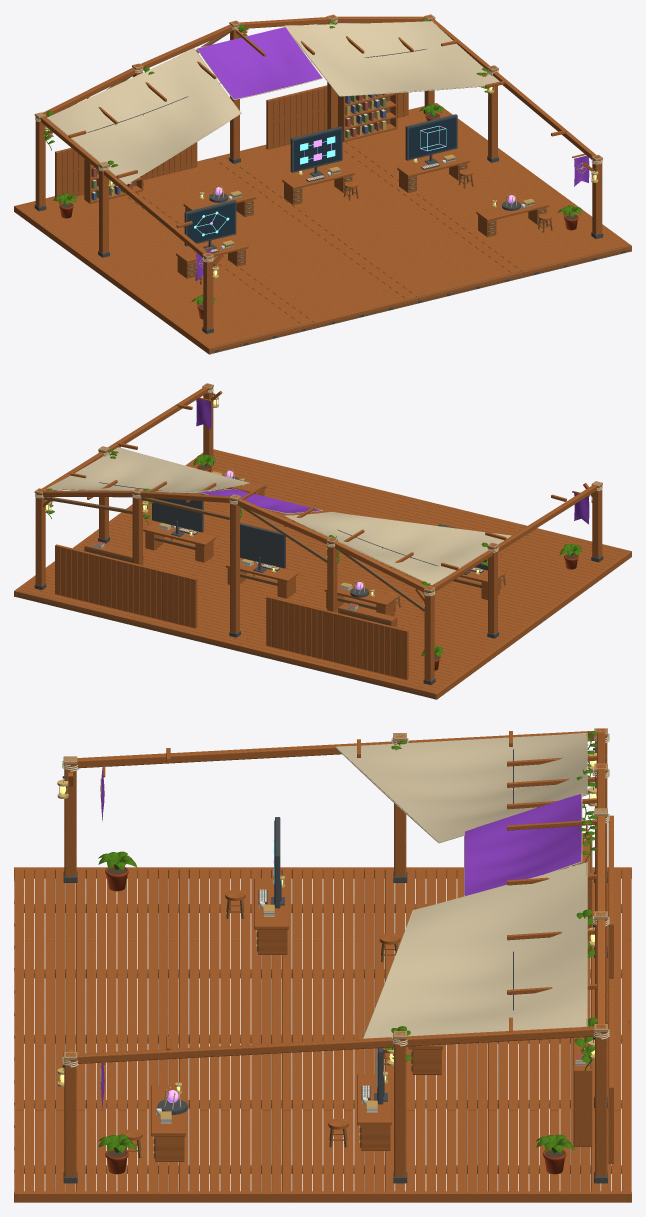
File: workshop-v1-batched.glb
3 views of the same model, one above another, from view 1: azimuth 30°, elevation 25°; view 2: azimuth 150°, elevation 25°; view 3: azimuth 270°, elevation 25° (orthographic). The views are drawn at different scales.
Parts seen in each view (by area): view 1: Batched_26_Workshop_PBR_Honey_Timber, Batched_24_Workshop_PBR_Cream_Linen, Batched_14_Workshop_PBR_Honey_Timber, Batched_23_Workshop_PBR_Violet_Cloth, Batched_10_Workshop_PBR_Screen_Glass, Batched_11_Workshop_PBR_Iron, Batched_27_Workshop_PBR_Dark_Joinery, Batched_15_Workshop_PBR_Dark_Joinery, Batched_25_Workshop_PBR_Honey_Timber, Batched_7_Workshop_PBR_Leaf_Green, Batched_20_Workshop_PBR_Book_Ochre, Batched_12_Workshop_PBR_Diagram_Cyan (+2 smaller); view 2: Batched_26_Workshop_PBR_Honey_Timber, Batched_24_Workshop_PBR_Cream_Linen, Batched_14_Workshop_PBR_Honey_Timber, Batched_27_Workshop_PBR_Dark_Joinery, Batched_11_Workshop_PBR_Iron, Batched_15_Workshop_PBR_Dark_Joinery, Batched_25_Workshop_PBR_Honey_Timber, Batched_23_Workshop_PBR_Violet_Cloth, Batched_7_Workshop_PBR_Leaf_Green, Batched_4_Workshop_PBR_Violet_Cloth, Batched_28_Workshop_PBR_Cut_Endgrain; view 3: Batched_26_Workshop_PBR_Honey_Timber, Batched_24_Workshop_PBR_Cream_Linen, Batched_14_Workshop_PBR_Honey_Timber, Batched_23_Workshop_PBR_Violet_Cloth, Batched_7_Workshop_PBR_Leaf_Green, Batched_25_Workshop_PBR_Honey_Timber, Batched_27_Workshop_PBR_Dark_Joinery, Batched_11_Workshop_PBR_Iron, Batched_6_Workshop_PBR_Terracotta, Batched_28_Workshop_PBR_Cut_Endgrain, Batched_0_Workshop_PBR_Brass, Batched_15_Workshop_PBR_Dark_Joinery (+2 smaller).
Boxes of the visible parts, x1=… form: Batched_26_Workshop_PBR_Honey_Timber: x1=14, y1=15, x2=631, y2=354; Batched_24_Workshop_PBR_Cream_Linen: x1=47, y1=21, x2=502, y2=184; Batched_14_Workshop_PBR_Honey_Timber: x1=84, y1=93, x2=551, y2=279; Batched_23_Workshop_PBR_Violet_Cloth: x1=197, y1=27, x2=321, y2=99; Batched_10_Workshop_PBR_Screen_Glass: x1=187, y1=117, x2=456, y2=242; Batched_11_Workshop_PBR_Iron: x1=184, y1=114, x2=520, y2=253; Batched_27_Workshop_PBR_Dark_Joinery: x1=19, y1=23, x2=630, y2=353; Batched_15_Workshop_PBR_Dark_Joinery: x1=95, y1=96, x2=552, y2=284; Batched_25_Workshop_PBR_Honey_Timber: x1=68, y1=30, x2=566, y2=228; Batched_7_Workshop_PBR_Leaf_Green: x1=44, y1=18, x2=582, y2=304; Batched_20_Workshop_PBR_Book_Ochre: x1=97, y1=95, x2=534, y2=248; Batched_12_Workshop_PBR_Diagram_Cyan: x1=194, y1=126, x2=446, y2=236; Batched_26_Workshop_PBR_Honey_Timber: x1=14, y1=384, x2=631, y2=699; Batched_24_Workshop_PBR_Cream_Linen: x1=47, y1=447, x2=511, y2=585; Batched_14_Workshop_PBR_Honey_Timber: x1=84, y1=470, x2=505, y2=627; Batched_27_Workshop_PBR_Dark_Joinery: x1=17, y1=450, x2=631, y2=698; Batched_11_Workshop_PBR_Iron: x1=152, y1=476, x2=487, y2=597; Batched_15_Workshop_PBR_Dark_Joinery: x1=85, y1=488, x2=505, y2=625; Batched_25_Workshop_PBR_Honey_Timber: x1=68, y1=404, x2=566, y2=570; Batched_23_Workshop_PBR_Violet_Cloth: x1=198, y1=489, x2=320, y2=512; Batched_7_Workshop_PBR_Leaf_Green: x1=45, y1=450, x2=582, y2=657; Batched_4_Workshop_PBR_Violet_Cloth: x1=196, y1=399, x2=589, y2=524; Batched_28_Workshop_PBR_Cut_Endgrain: x1=34, y1=383, x2=602, y2=592; Batched_26_Workshop_PBR_Honey_Timber: x1=14, y1=728, x2=631, y2=1202; Batched_24_Workshop_PBR_Cream_Linen: x1=335, y1=733, x2=587, y2=1038; Batched_14_Workshop_PBR_Honey_Timber: x1=122, y1=833, x2=592, y2=1161; Batched_23_Workshop_PBR_Violet_Cloth: x1=464, y1=793, x2=581, y2=895; Batched_7_Workshop_PBR_Leaf_Green: x1=98, y1=731, x2=597, y2=1153; Batched_25_Workshop_PBR_Honey_Timber: x1=166, y1=731, x2=596, y2=1050; Batched_27_Workshop_PBR_Dark_Joinery: x1=15, y1=867, x2=631, y2=1202; Batched_11_Workshop_PBR_Iron: x1=157, y1=817, x2=387, y2=1114; Batched_6_Workshop_PBR_Terracotta: x1=105, y1=866, x2=566, y2=1174; Batched_28_Workshop_PBR_Cut_Endgrain: x1=63, y1=728, x2=607, y2=1060; Batched_0_Workshop_PBR_Brass: x1=57, y1=744, x2=596, y2=1094; Batched_15_Workshop_PBR_Dark_Joinery: x1=125, y1=835, x2=592, y2=1158.
Size of the model in its own units: 30 by 9.9 by 24.
21 materials, 4 textured.
